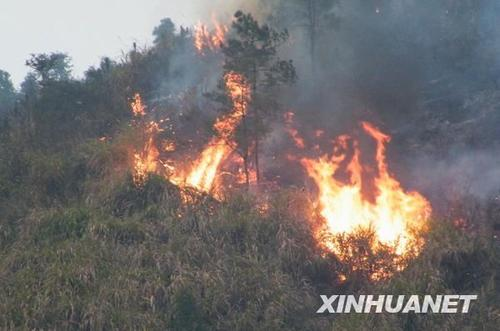fire: (289, 130, 428, 263), (130, 67, 258, 203)
